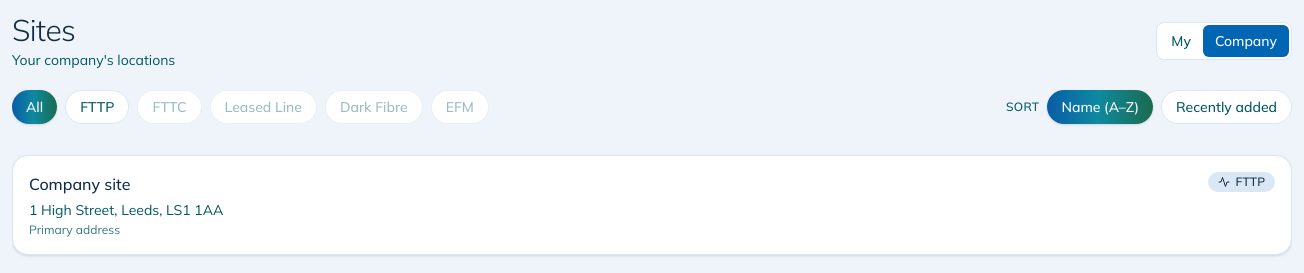
SitesPage › switches to the My tier and refetches from the me scope
This screenshot has width=1304, height=273.
Expected: the text "Company site" is shown, top-left (29, 174), bottom-right (130, 194)
Click the tab "My" at (1181, 41), box top-left (1159, 25), bottom-right (1203, 57)
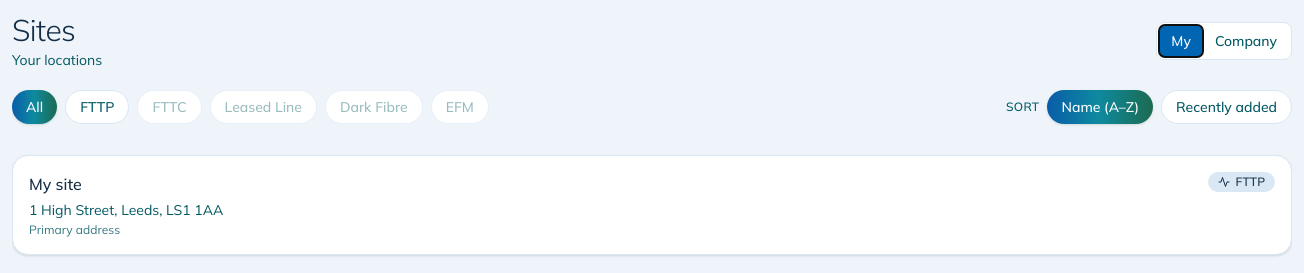
Expected: the text "My site" is shown, top-left (29, 174), bottom-right (82, 194)
Expected: the text "Your locations" is shown, top-left (12, 50), bottom-right (102, 70)
